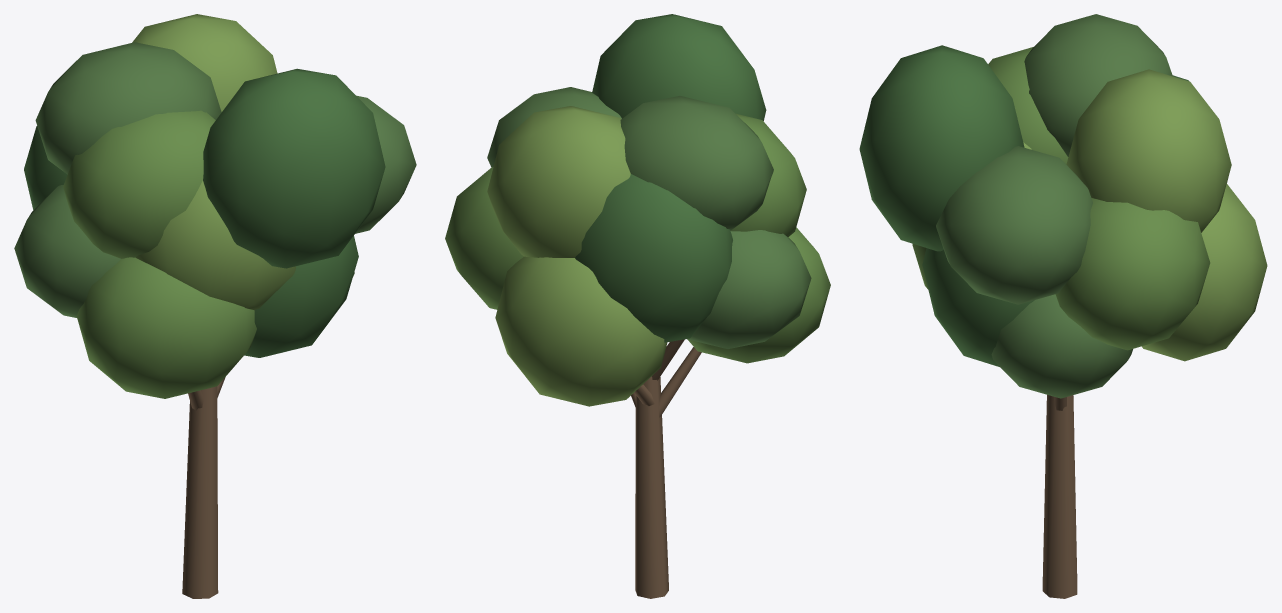
File: talai-tree.glb
3 views of the same model, side by side, from view 1: azimuth 30°, elevation 25°; view 2: azimuth 150°, elevation 25°; view 3: azimuth 270°, elevation 25° (orthographic). The views are drawn at different scales.
Size of the model in its own units: 4 by 6 by 4.
